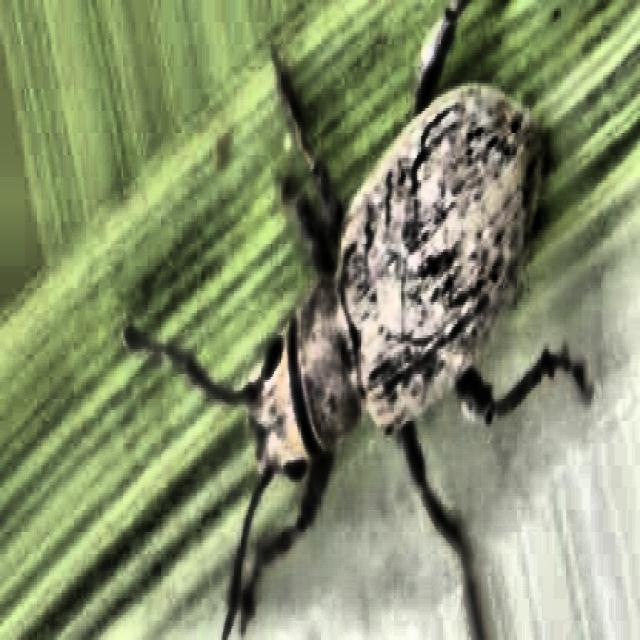Stink bug: (168, 55, 568, 572)
